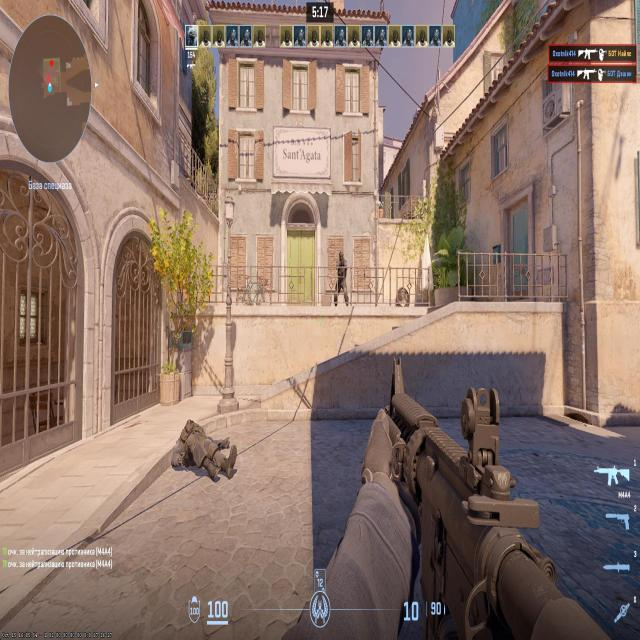CT: (336, 252, 347, 306)
CT_heat: (338, 252, 343, 265)
